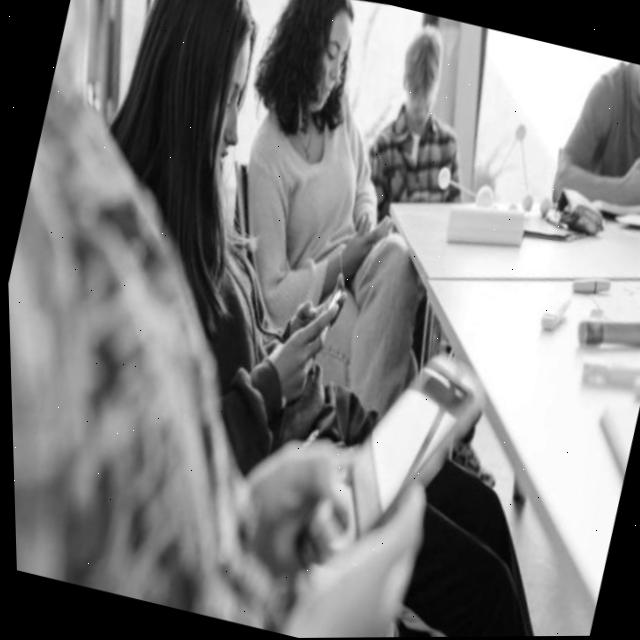phone: (264, 321, 511, 610)
